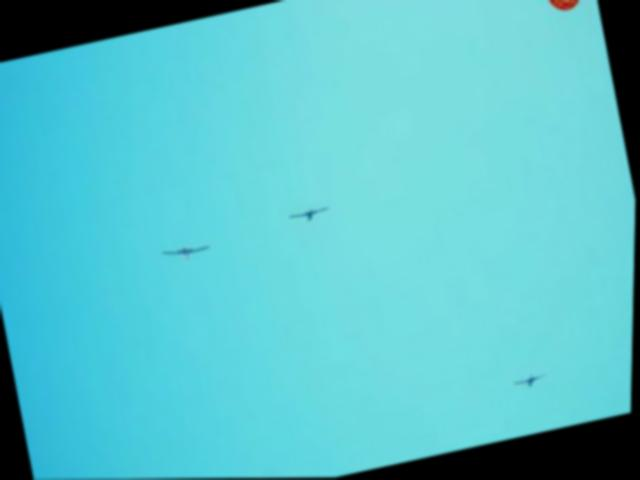uav: (161, 238, 213, 264), (287, 201, 335, 226), (513, 372, 550, 392)
